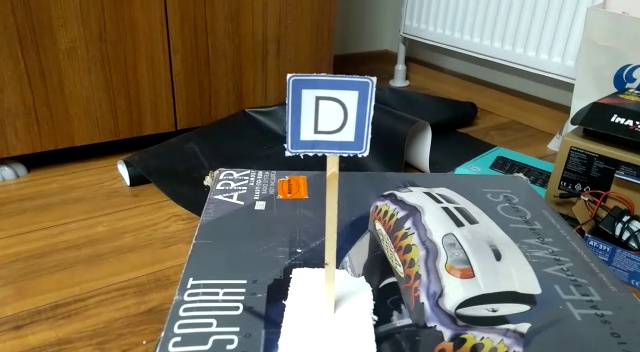durak: (282, 71, 378, 157)
